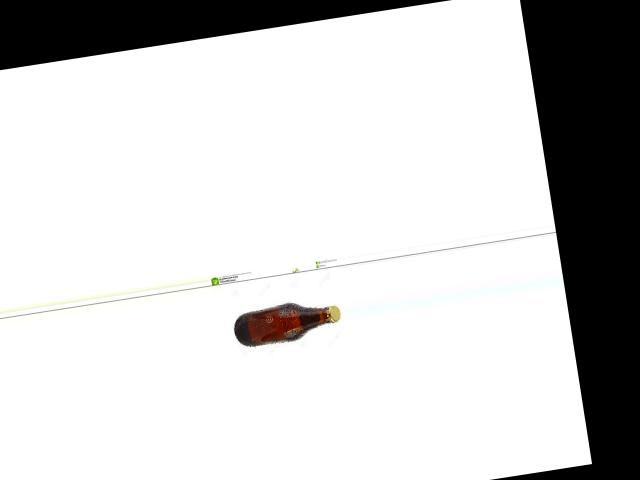beer: (232, 295, 343, 349)
